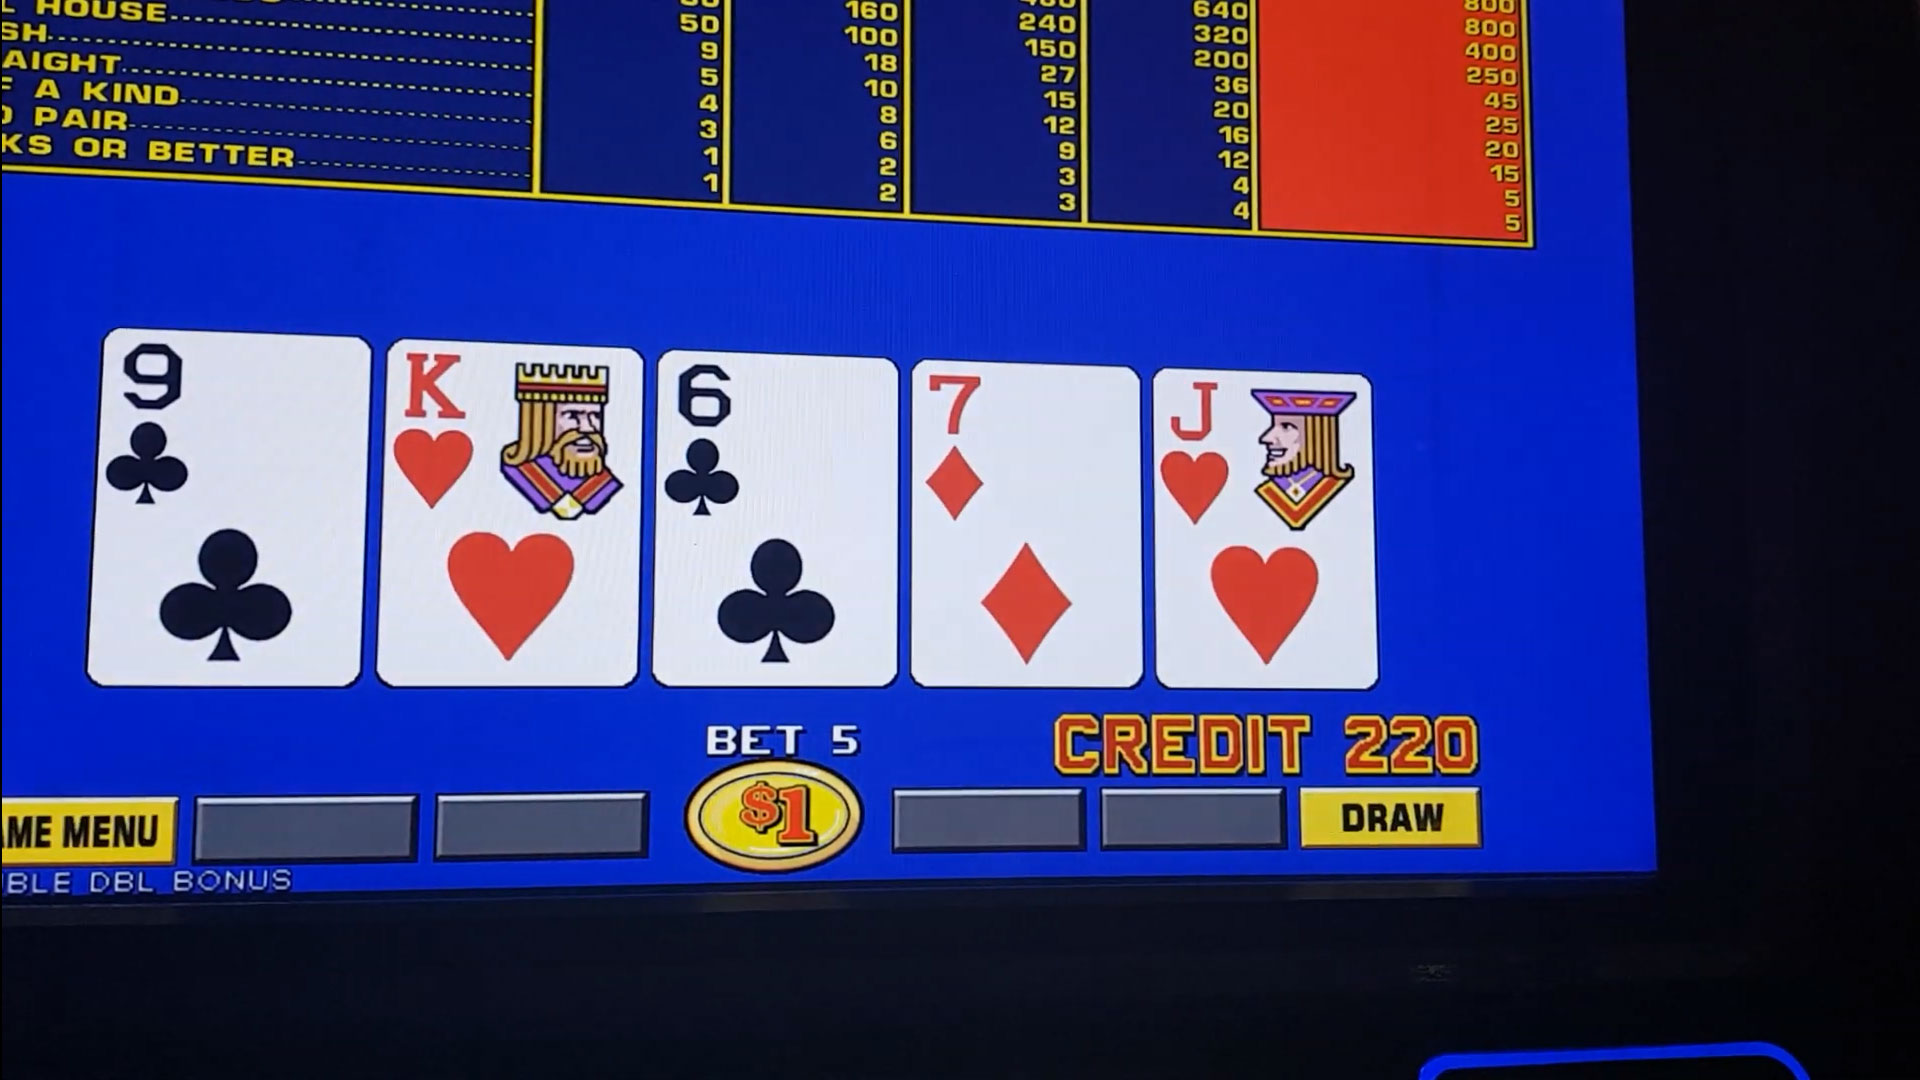C6: (665, 359, 897, 522)
C9: (104, 334, 363, 517)
D7: (916, 371, 1134, 524)
HJ: (1156, 372, 1362, 541)
HK: (398, 349, 638, 522)
